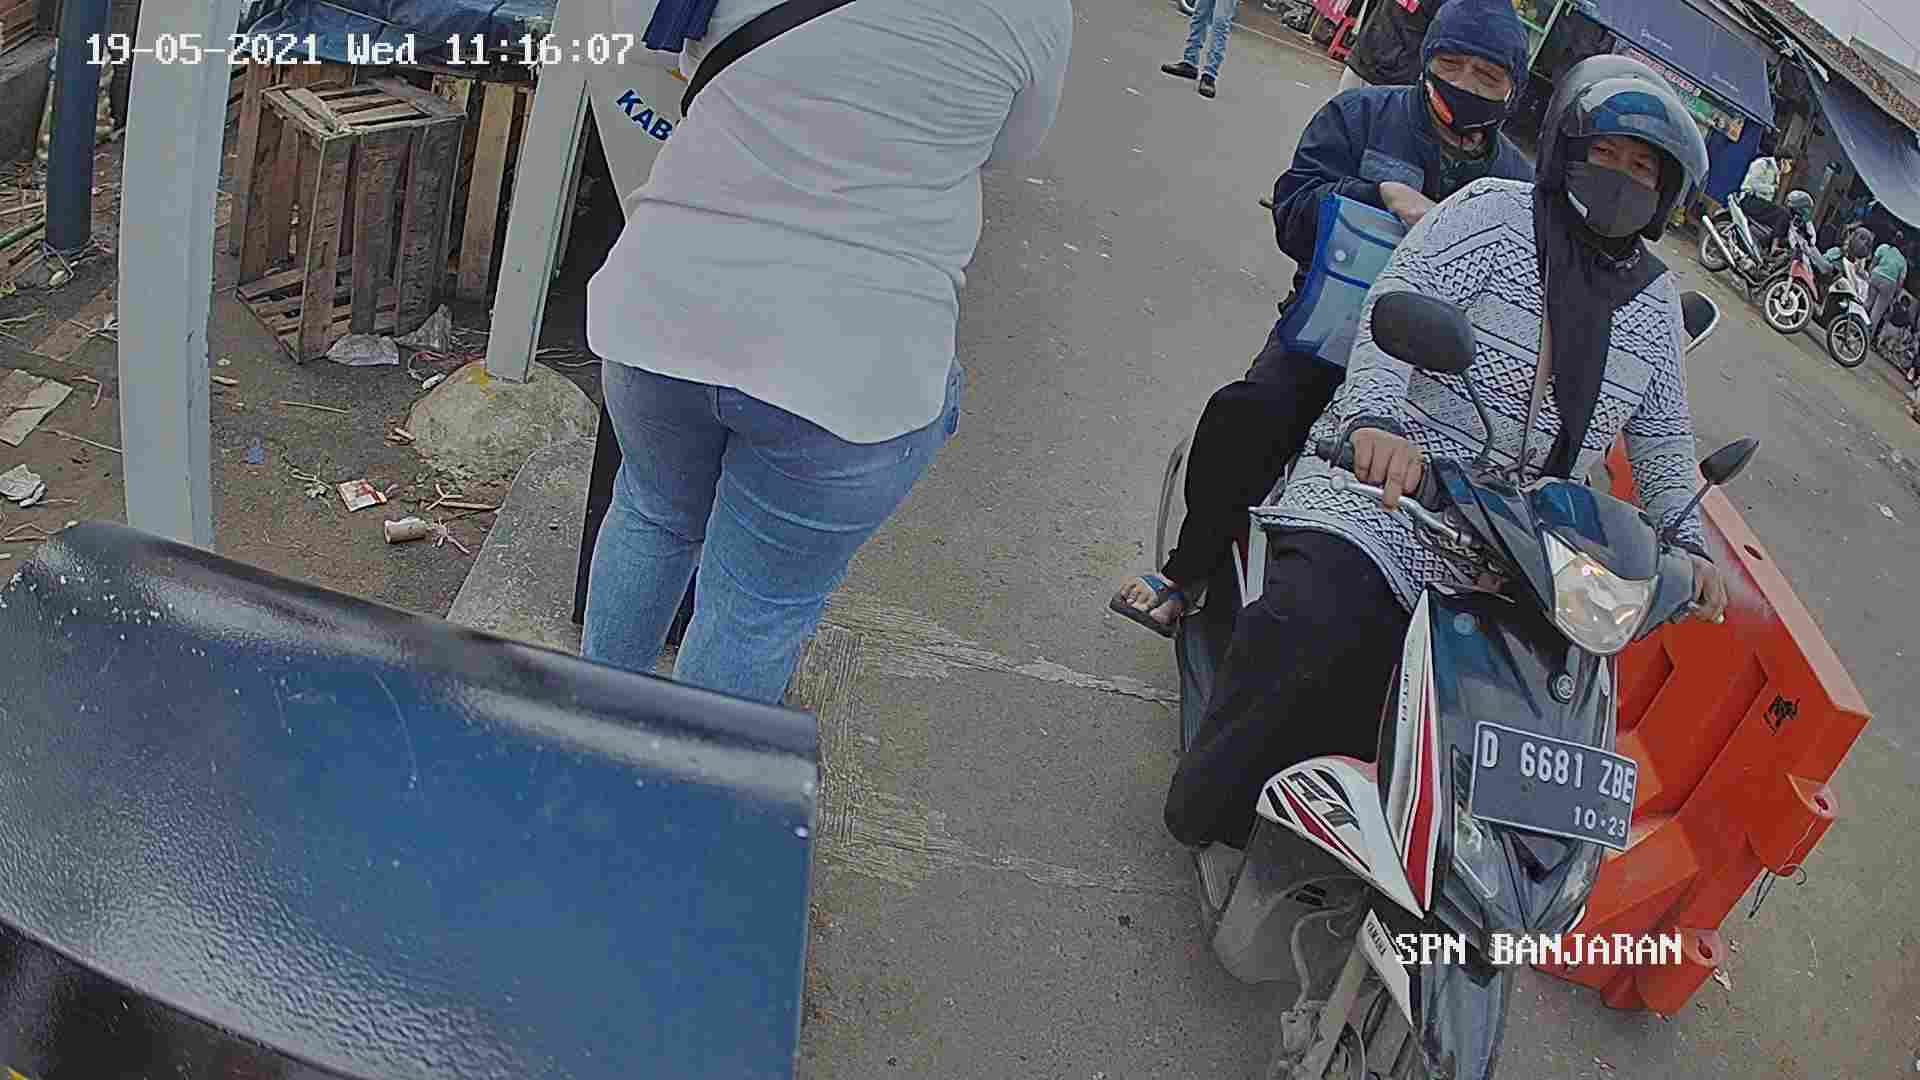motor: (1189, 276, 1712, 1080)
